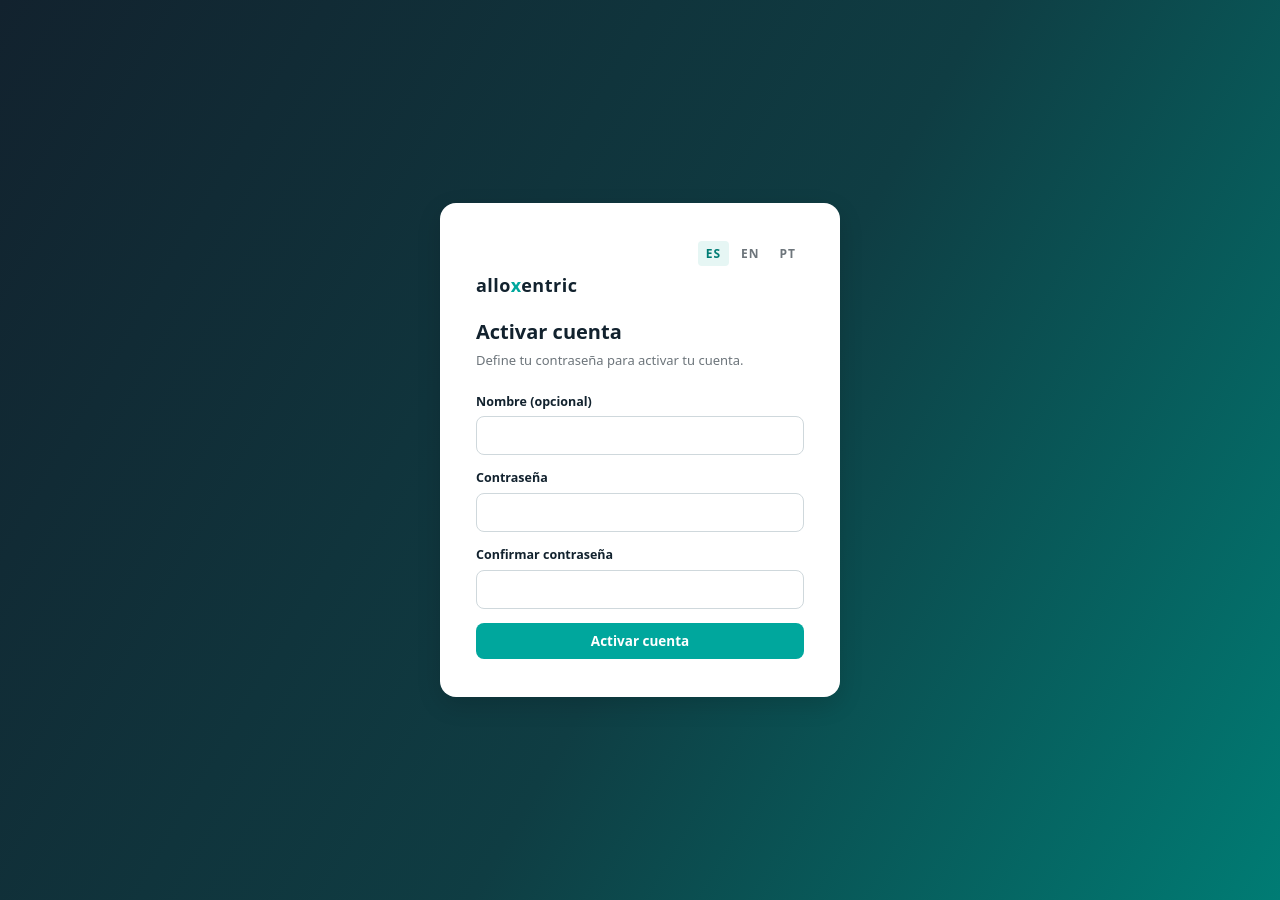
Scenario: Aceptar invitación › muestra el error si la invitación expiró
In the 1st password field: (640,513) [476,493,804,532], type "Password123!"
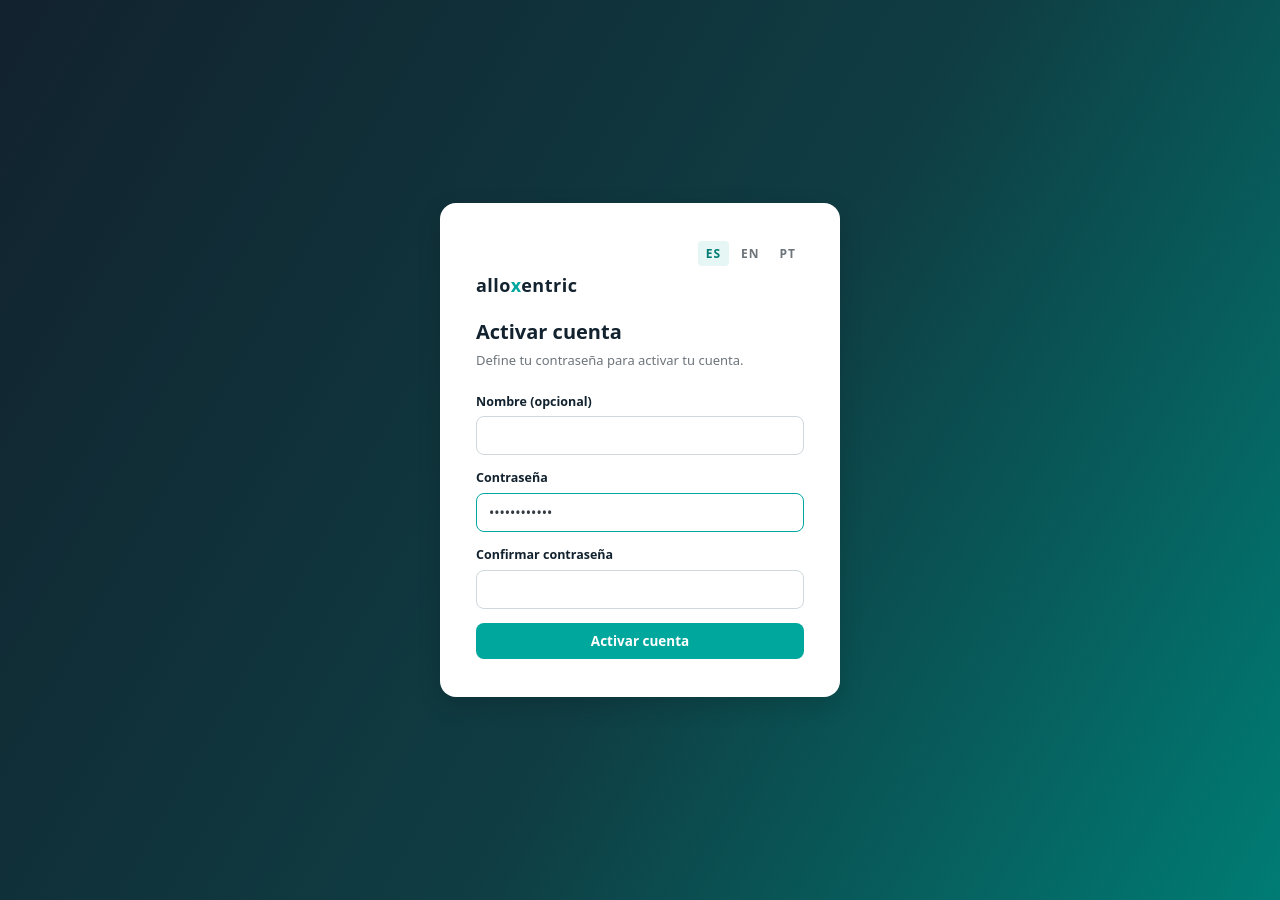
In the password field below "Confirmar contraseña": (640,589) [476,570,804,609], type "Password123!"
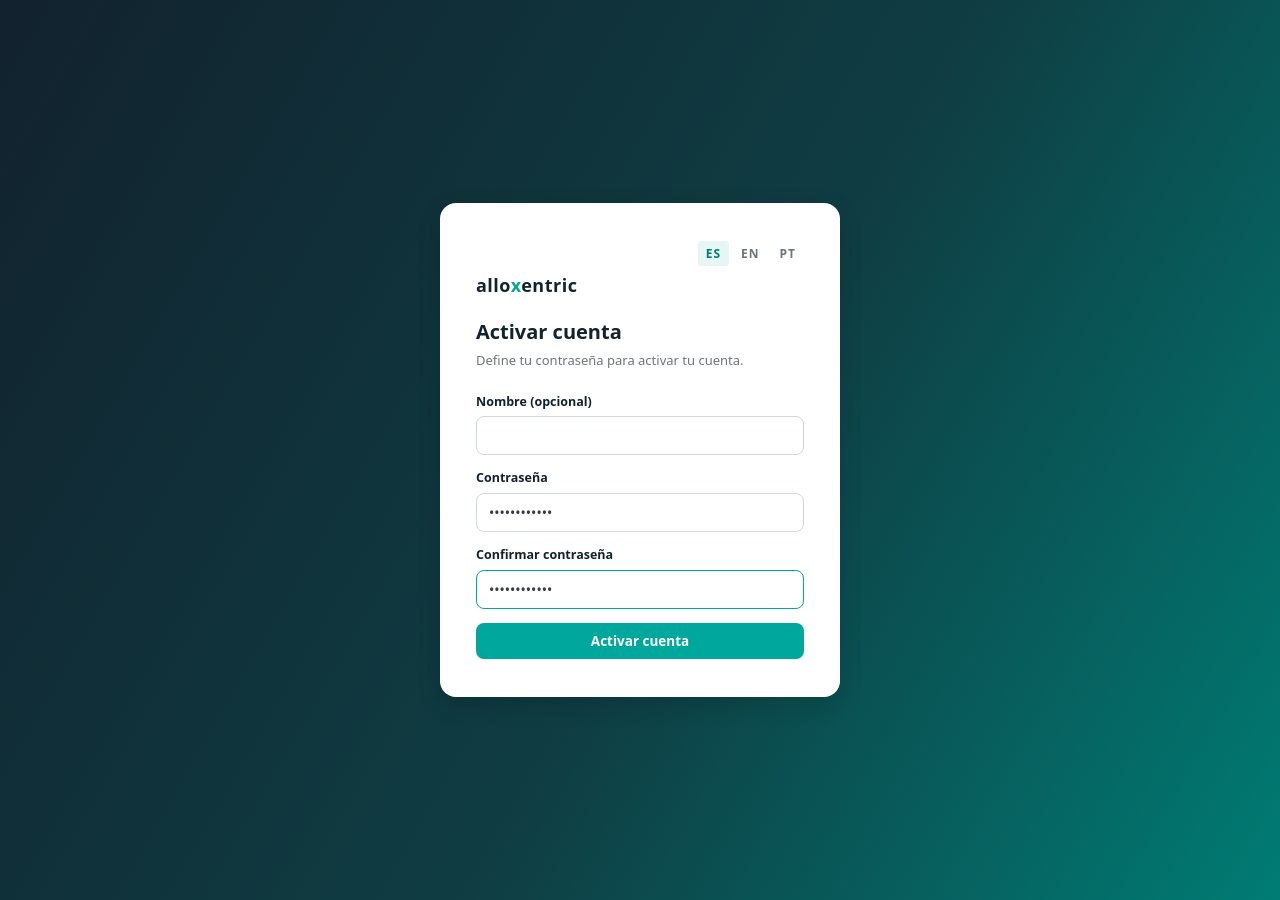
Click the button "Activar cuenta": (640,641) [476,623,804,659]
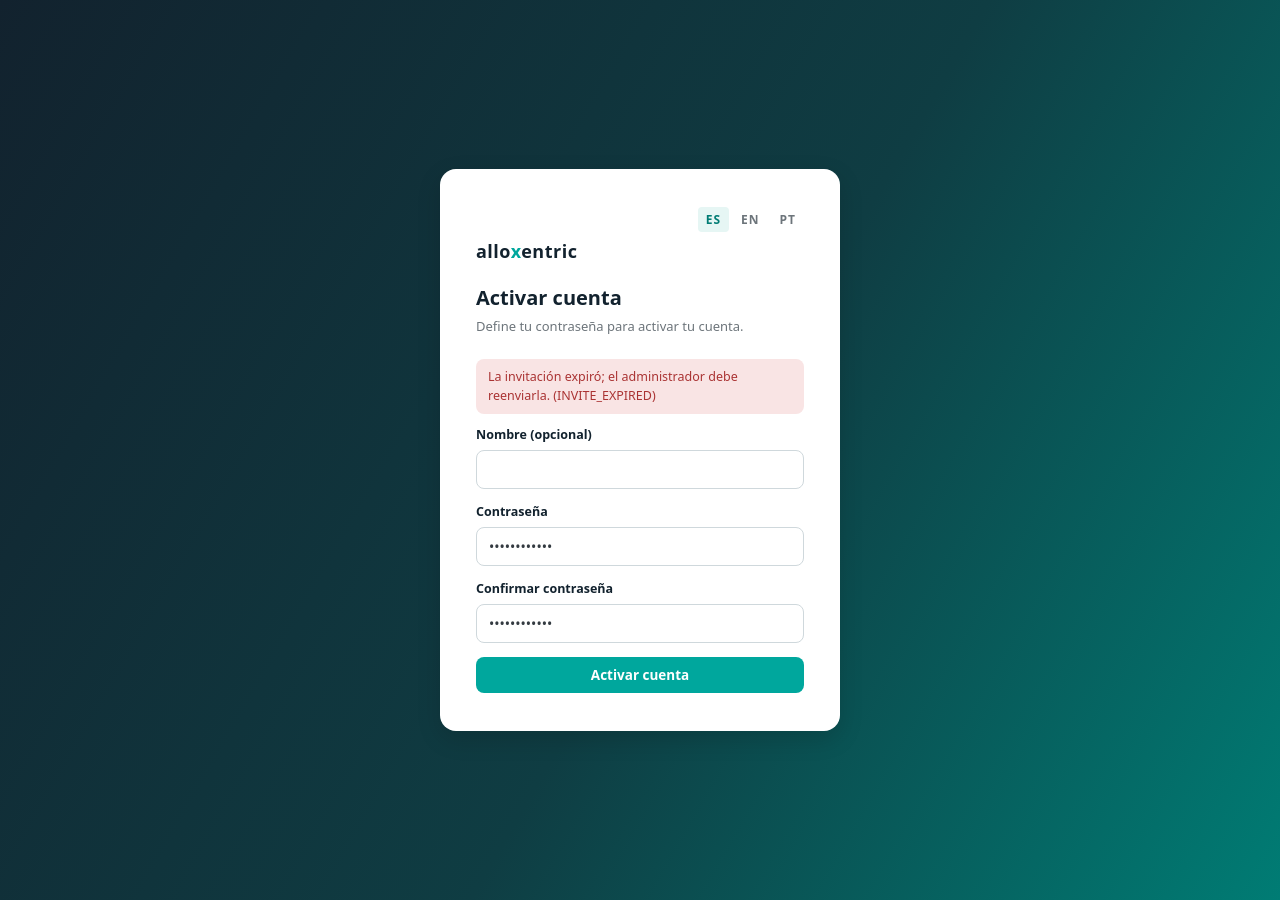
expect the text "INVITE_EXPIRED" is shown: met, box [488,368,738,404]
